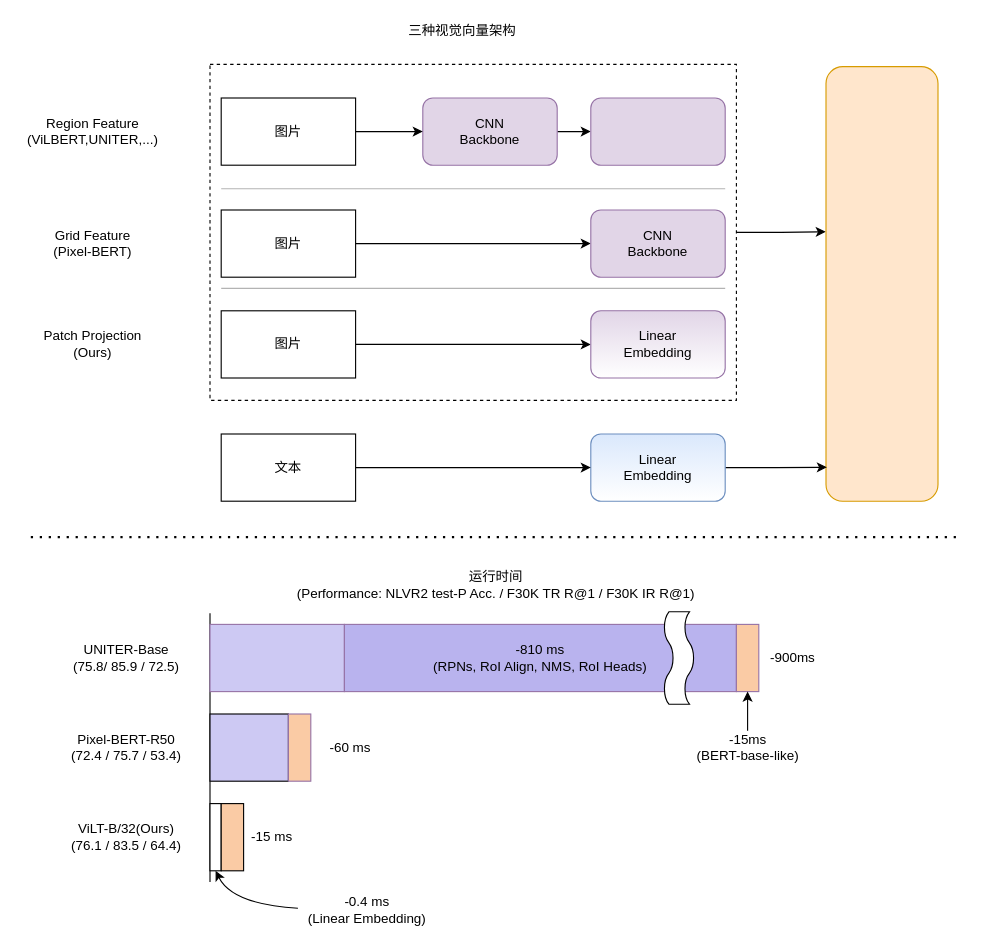
Some shapes in this 981 by 945 pixel diagram are drawn without their labels. The centre of each missing label's shape, as x and y in pixels:
"-45 ms (R50)" belongs at point (248, 747).
"-75ms (R101)" belongs at point (276, 657).
"Region Operations" belongs at point (657, 131).
"多模态融合 Modality Interaction" belongs at point (881, 283).
